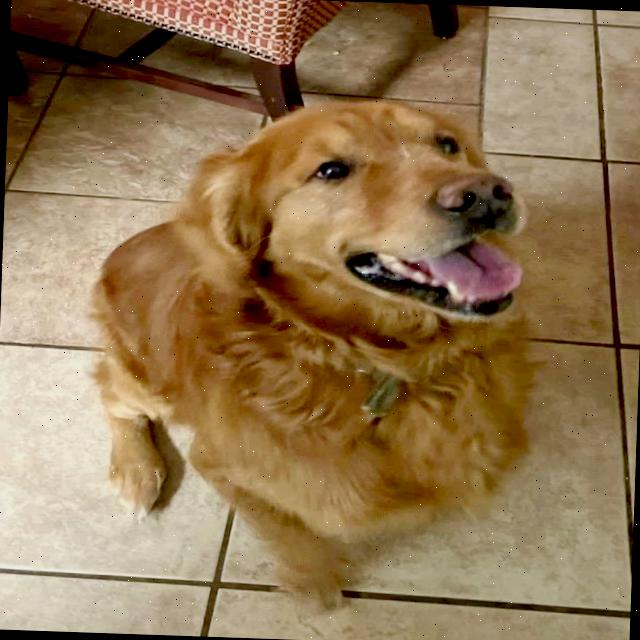golden_retriever_dog: (166, 85, 554, 379)
